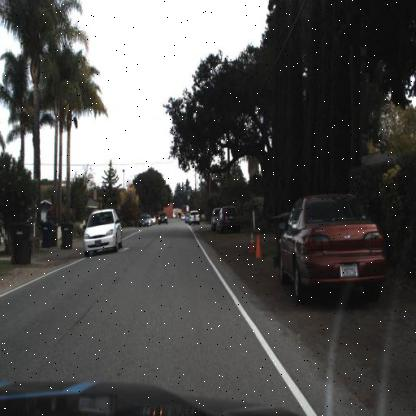car: (274, 192, 384, 301), (277, 192, 384, 301), (81, 207, 122, 257), (83, 208, 123, 255), (216, 206, 241, 232), (157, 211, 169, 227), (188, 210, 200, 225)
